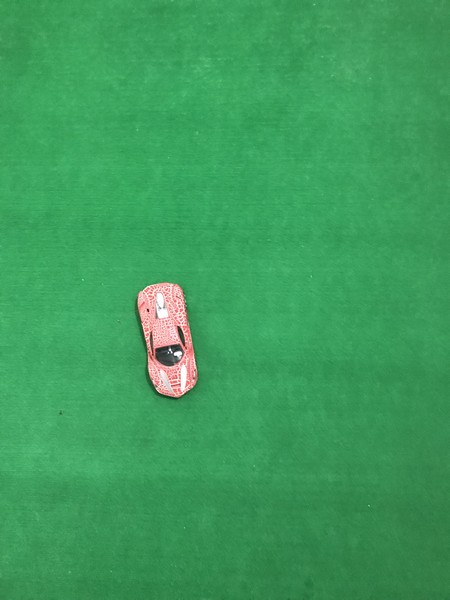RC: (134, 280, 202, 401)
